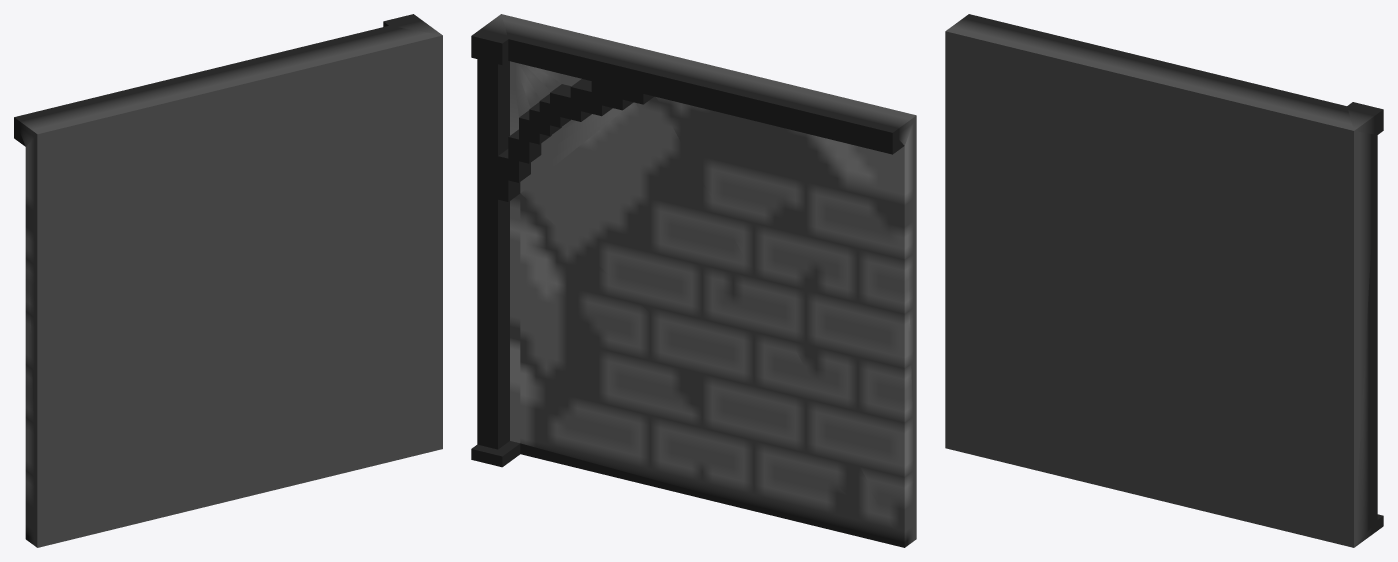
The model's file is WallBrick_SL.fbx.
3 renders of one model, left to right at view 1: azimuth 30°, elevation 25°; view 2: azimuth 150°, elevation 25°; view 3: azimuth 330°, elevation 25°, orthographic. The views are drawn at different scales.
Visible parts, largest first — view 1: WallBrick_SL.Merged; view 2: WallBrick_SL.Merged; view 3: WallBrick_SL.Merged.
Part boxes in pixels (<box>): WallBrick_SL.Merged: <box>14,14,442,547</box>; WallBrick_SL.Merged: <box>471,14,916,547</box>; WallBrick_SL.Merged: <box>945,14,1383,547</box>.
Size of the model in its own units: 1000 by 8000 by 7800.
